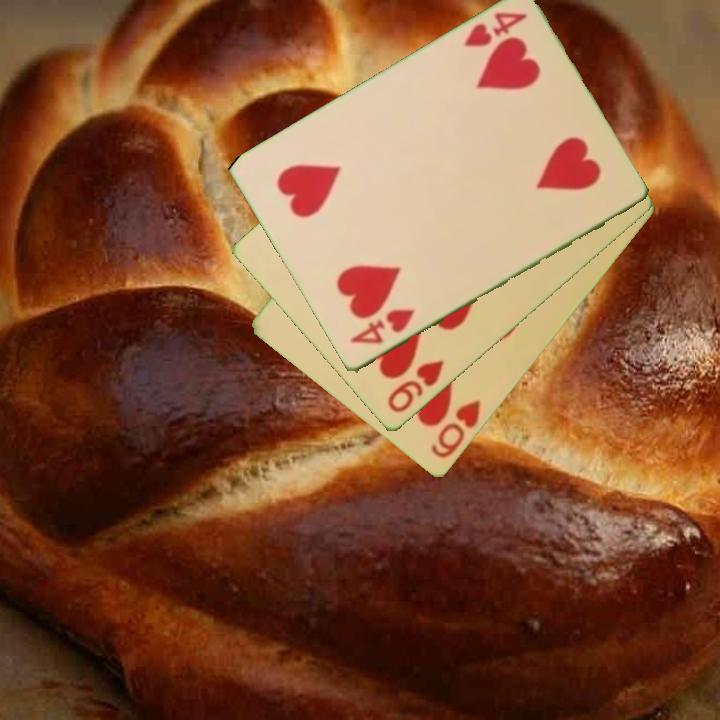4h: (346, 305, 418, 348), (460, 9, 529, 51)
6h: (427, 397, 484, 462)
9h: (384, 356, 447, 417)
